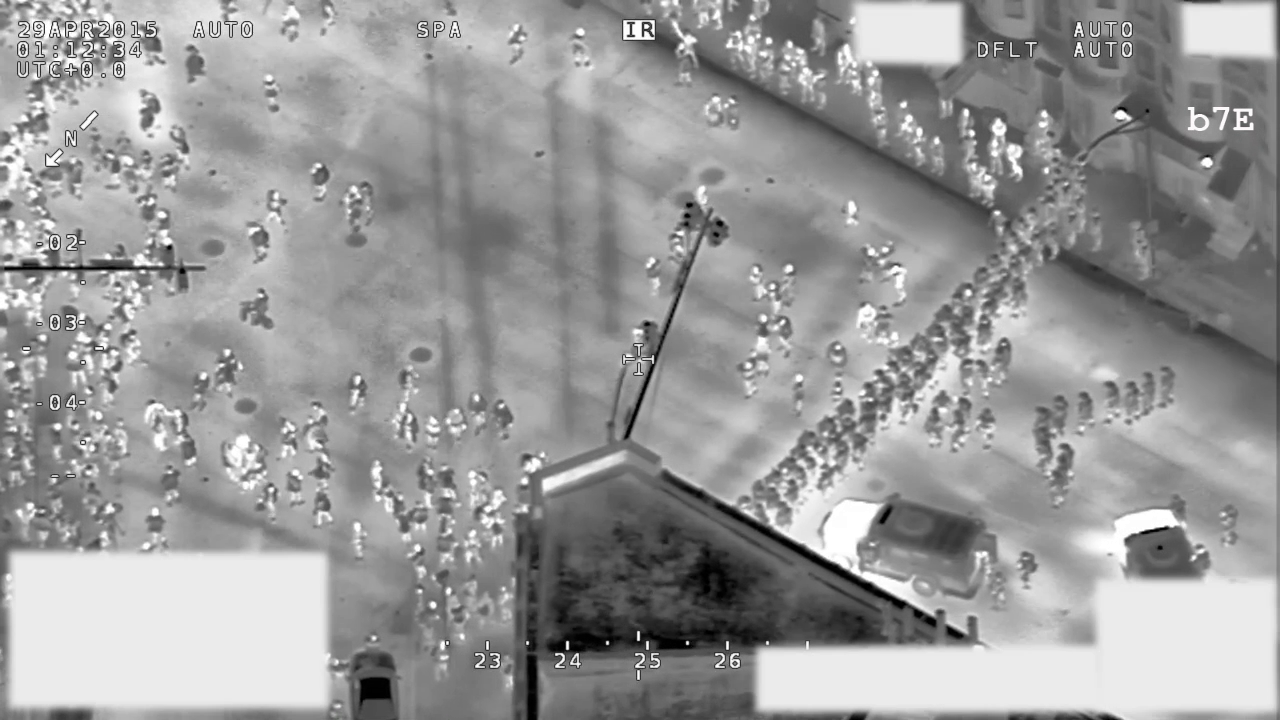vehicle: (816, 491, 1001, 604), (1107, 501, 1215, 581), (347, 645, 403, 720)
